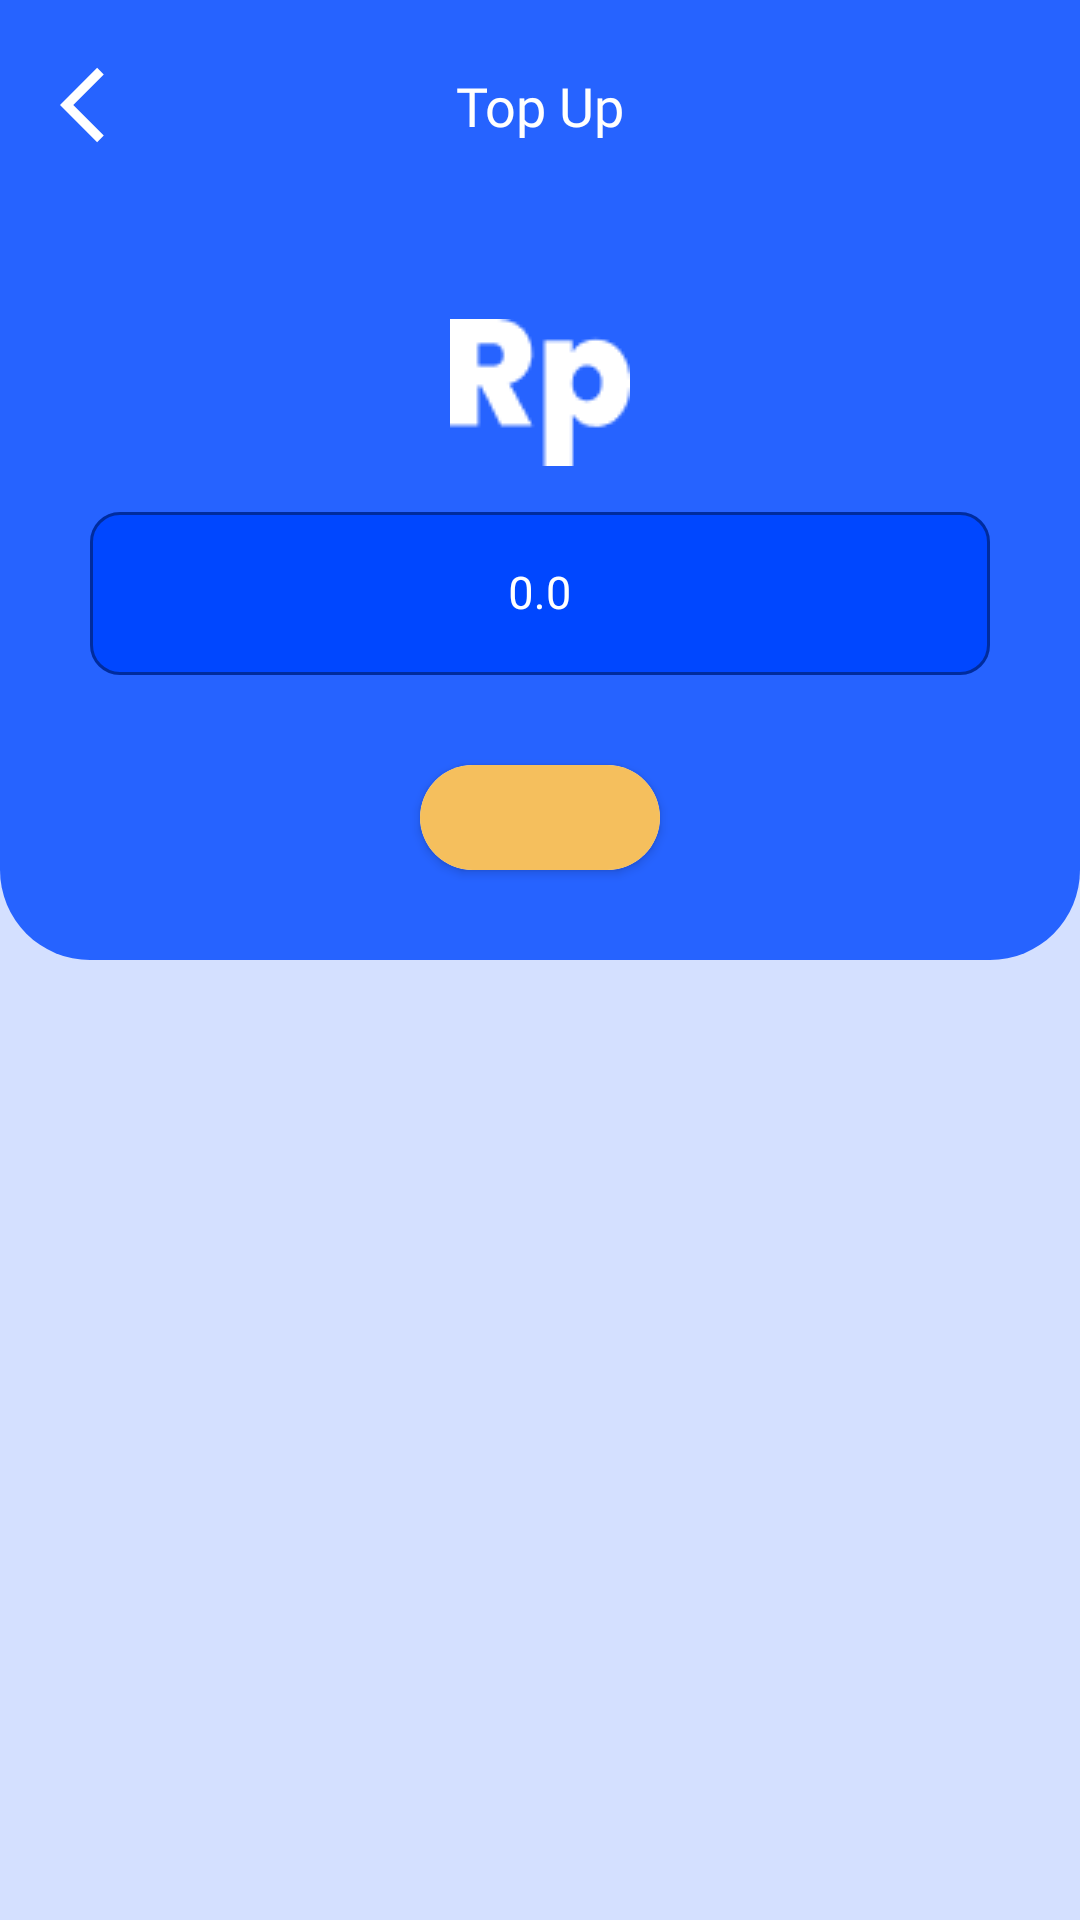

Where to tap for icons on this 1080w x 1920h app screen, as (x,y):
arrow back: (82,105)
currency rupiah: (540,392)
